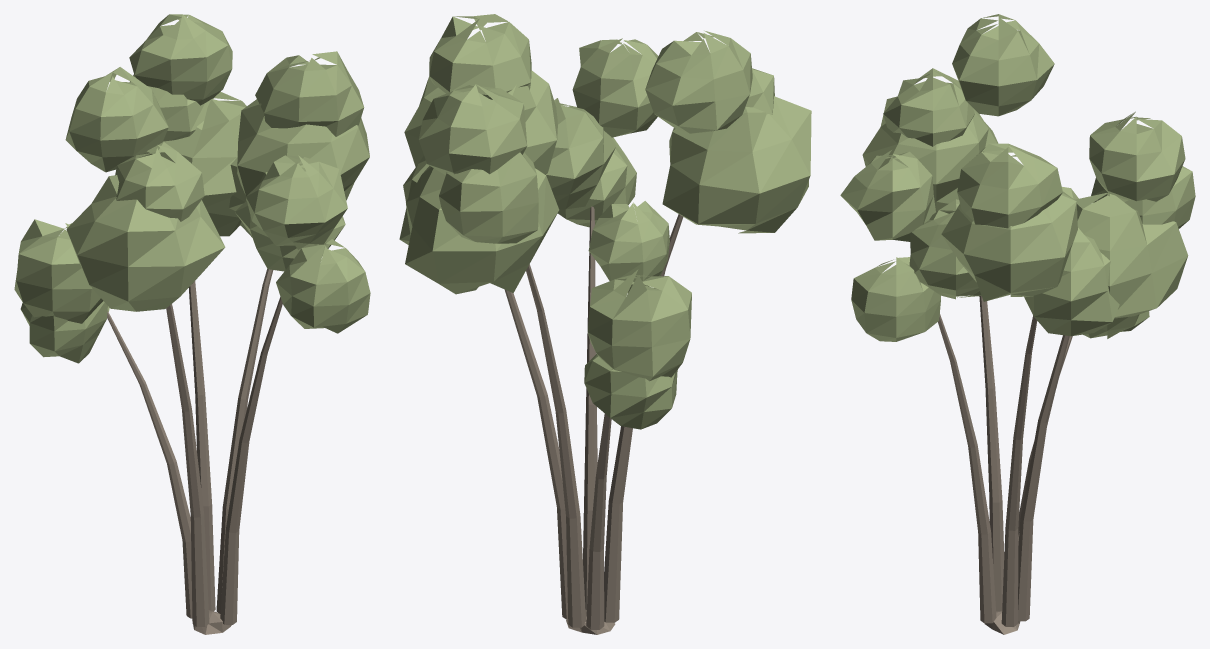
File: temperate-forest-ecology-goat-willow-shrub-tree-c0a3f369__3793.glb
3 views of the same model, side by side, from view 1: azimuth 30°, elevation 25°; view 2: azimuth 150°, elevation 25°; view 3: azimuth 270°, elevation 25° (orthographic). The views are drawn at different scales.
Visible parts, largest first — view 1: goat-willow-shrub-tree; view 2: goat-willow-shrub-tree; view 3: goat-willow-shrub-tree.
Boxes of the visible parts, x1,y1,x2,y2 form: goat-willow-shrub-tree: (14,14,370,634); goat-willow-shrub-tree: (399,14,811,634); goat-willow-shrub-tree: (840,14,1195,634).
Bounding box in the file's own units: 5.38 × 9.09 × 5.23.
